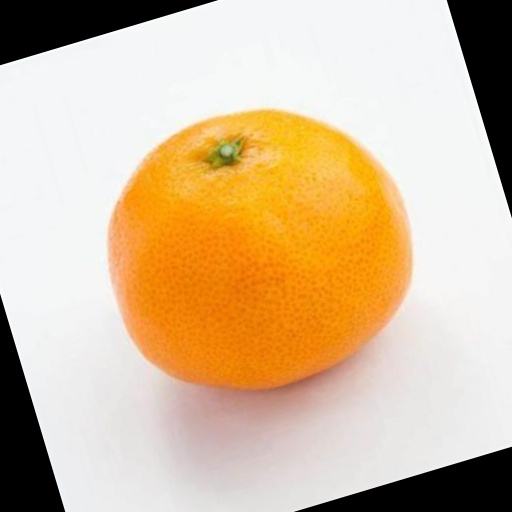fruit: (315, 75, 508, 403)
